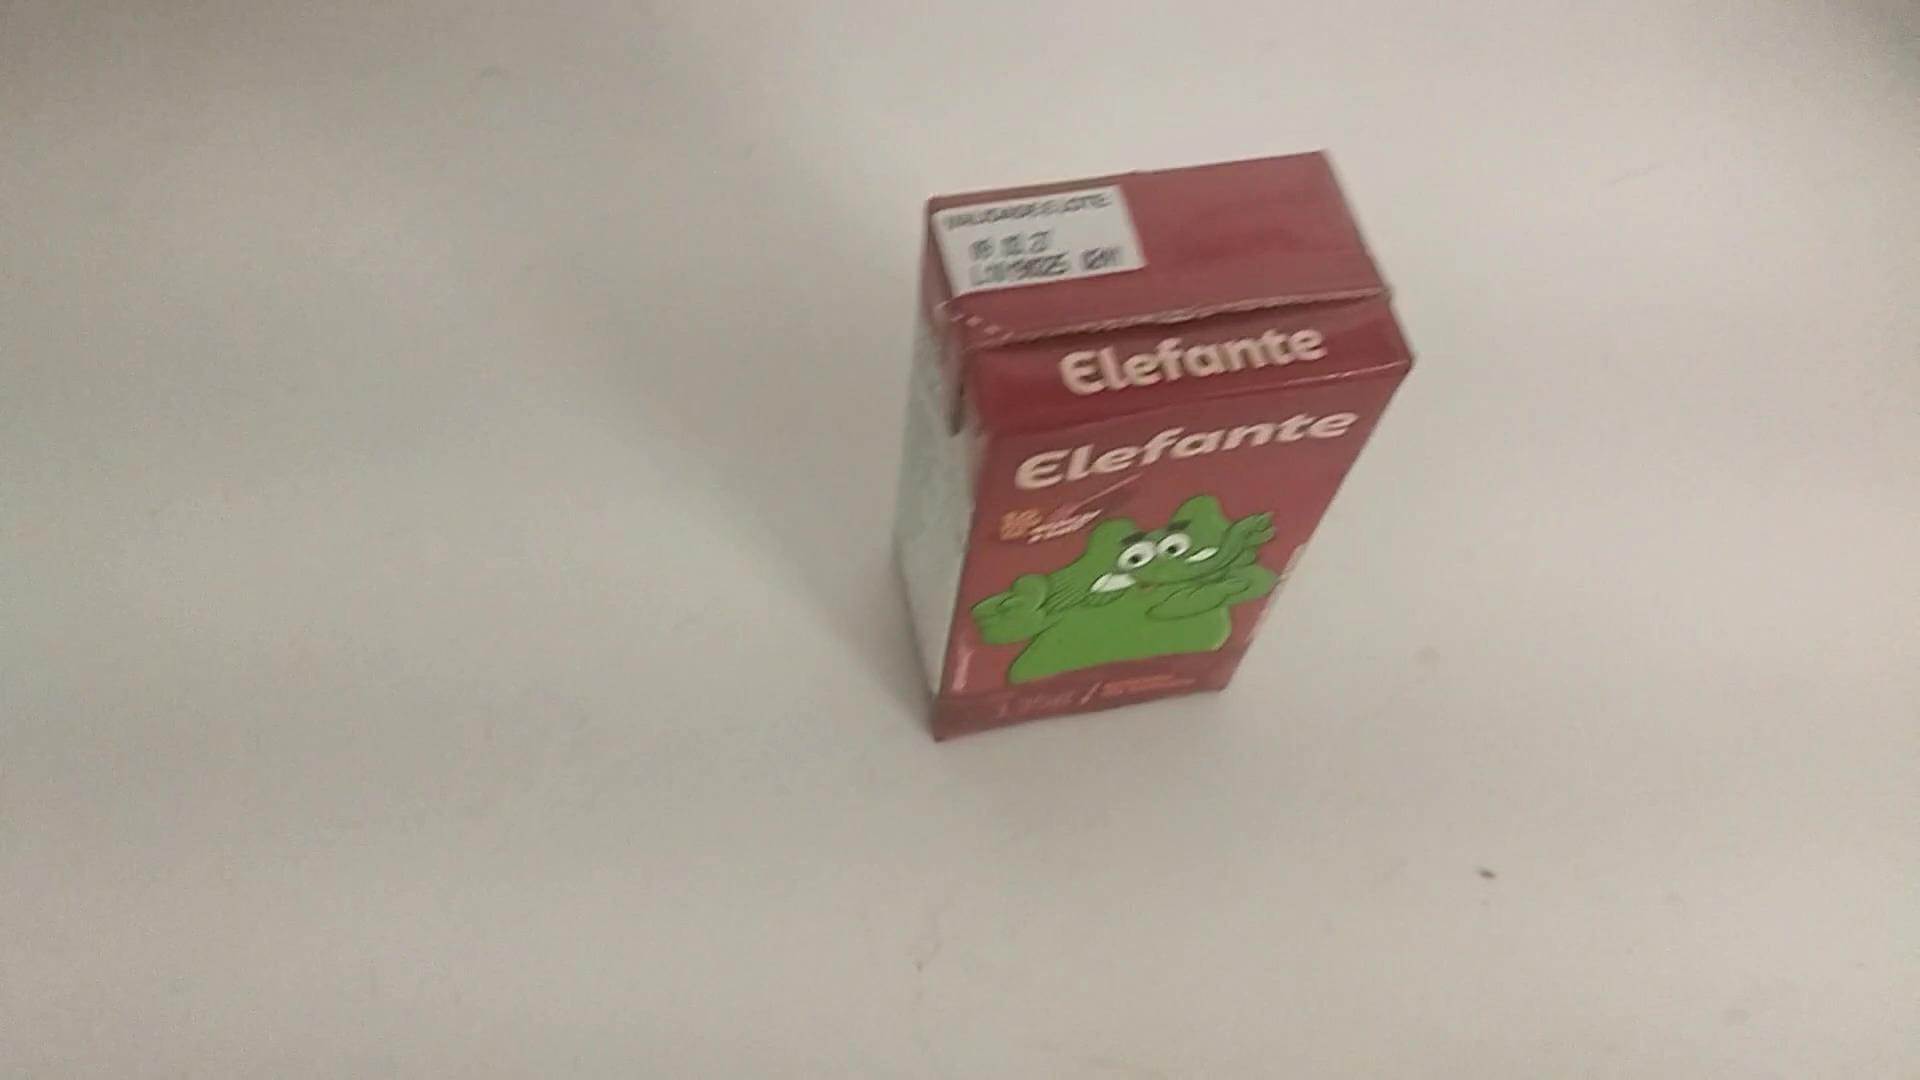tomate: (870, 152, 1422, 764)
